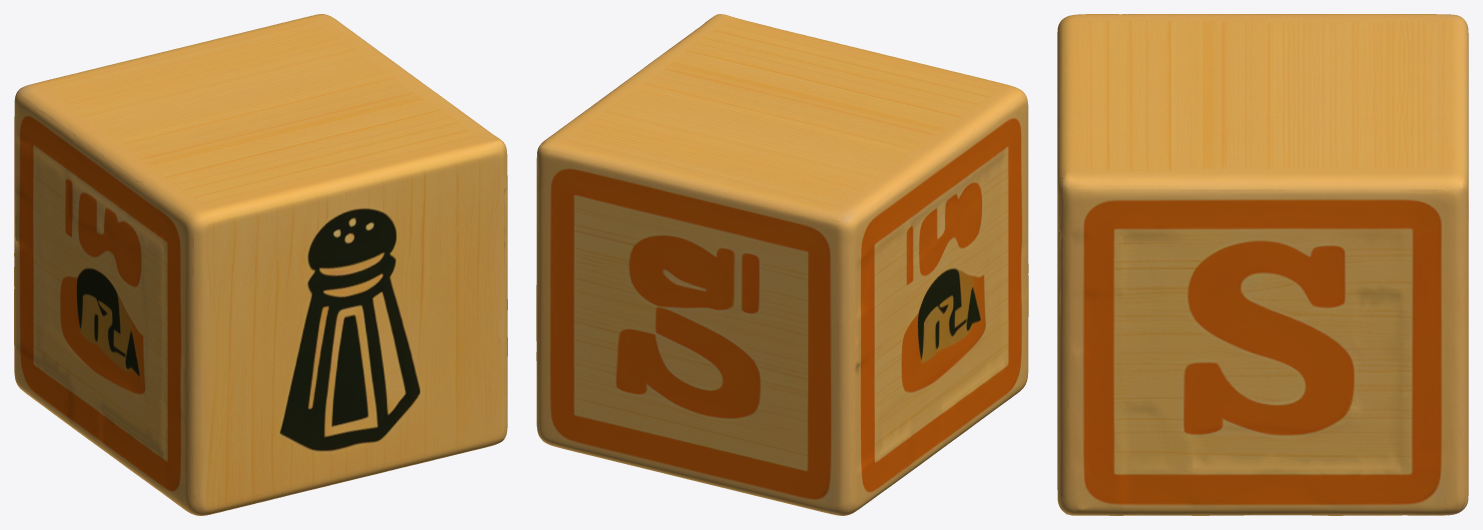
3 views of the same model, side by side, from view 1: azimuth 30°, elevation 25°; view 2: azimuth 150°, elevation 25°; view 3: azimuth 270°, elevation 25° (orthographic). The views are drawn at different scales.
Parts seen in each view (by area): view 1: tmps2poty1j.ply; view 2: tmps2poty1j.ply; view 3: tmps2poty1j.ply.
Boxes of the visible parts, left/top/right/bottom form: tmps2poty1j.ply: left=14, top=14, right=507, bottom=515; tmps2poty1j.ply: left=536, top=14, right=1028, bottom=515; tmps2poty1j.ply: left=1057, top=14, right=1468, bottom=515.
Size of the model in its own units: 1.97 by 1.78 by 1.96.
1 material, 1 textured.
